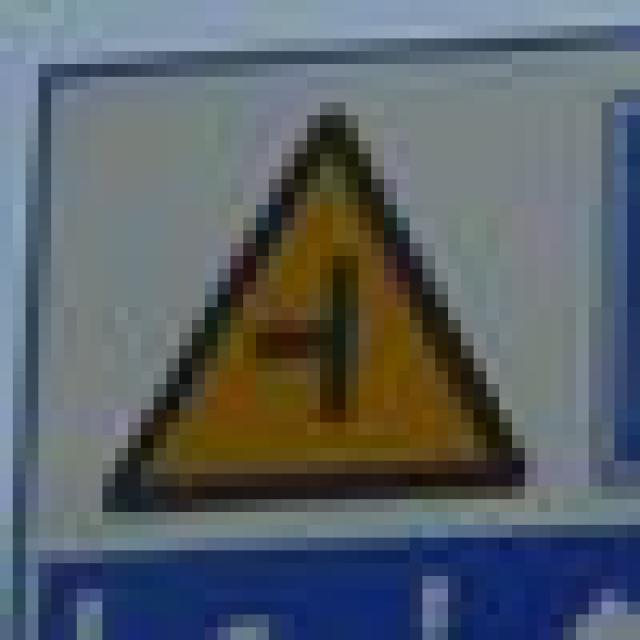side road left: (97, 108, 533, 516)
